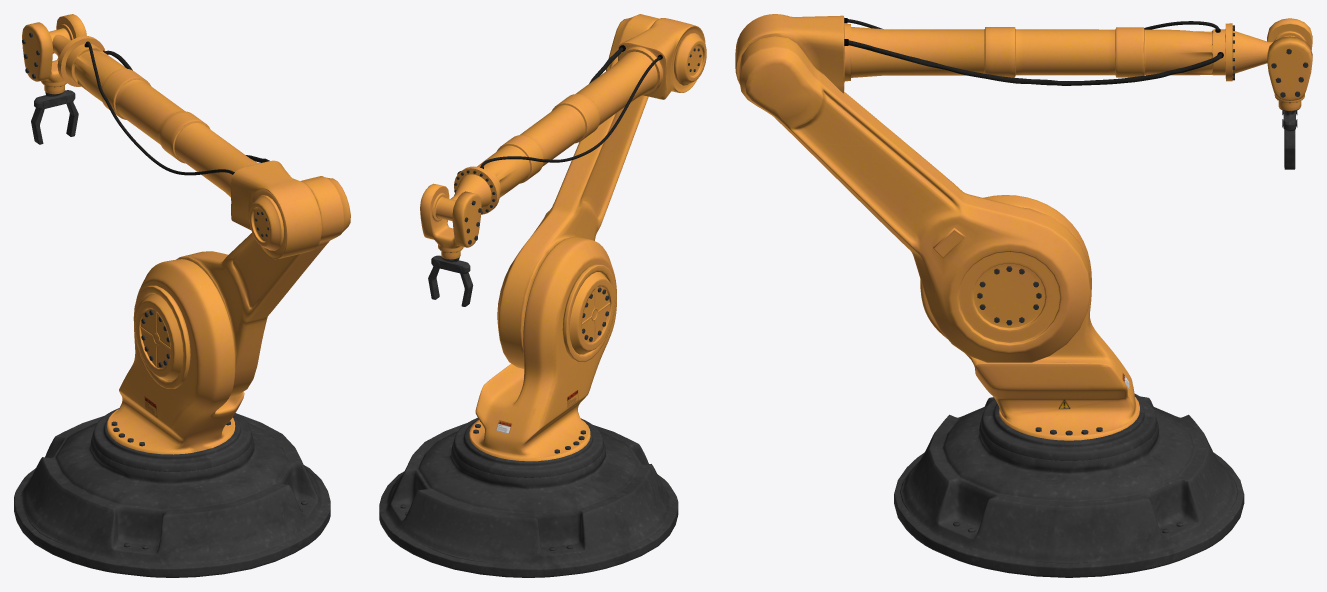
Rendered from industrial robot arm.fbx.
3 renders of one model, left to right at view 1: azimuth 30°, elevation 25°; view 2: azimuth 150°, elevation 25°; view 3: azimuth 270°, elevation 25°, orthographic. The views are drawn at different scales.
Parts seen in each view (by area): view 1: robot arm base, robot arm, Robot arm 2, robot arm large, robot arm end, Grabber; view 2: robot arm base, robot arm, robot arm large, Robot arm 2, robot arm end, Grabber; view 3: robot arm base, robot arm large, Robot arm 2, robot arm, robot arm end.
Boxes of the visible parts, x1=… form: robot arm base: x1=14, y1=414, x2=330, y2=577; robot arm: x1=92, y1=259, x2=252, y2=471; Robot arm 2: x1=52, y1=34, x2=321, y2=259; robot arm large: x1=133, y1=176, x2=350, y2=396; robot arm end: x1=22, y1=14, x2=86, y2=94; Grabber: x1=34, y1=90, x2=75, y2=109; robot arm base: x1=379, y1=423, x2=678, y2=577; robot arm: x1=453, y1=237, x2=616, y2=477; robot arm large: x1=497, y1=14, x2=706, y2=368; Robot arm 2: x1=451, y1=18, x2=705, y2=214; robot arm end: x1=420, y1=183, x2=481, y2=259; Grabber: x1=431, y1=255, x2=470, y2=273; robot arm base: x1=894, y1=396, x2=1244, y2=577; robot arm large: x1=739, y1=36, x2=1090, y2=362; Robot arm 2: x1=735, y1=14, x2=1272, y2=93; robot arm: x1=920, y1=195, x2=1157, y2=460; robot arm end: x1=1267, y1=18, x2=1312, y2=110.
Size of the model in its own units: 119 by 178 by 197.
Materials: 1 (1 with a texture image).
